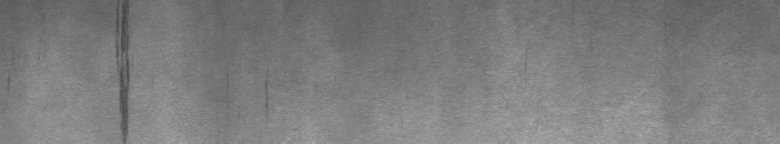hd: (111, 4, 135, 136)
